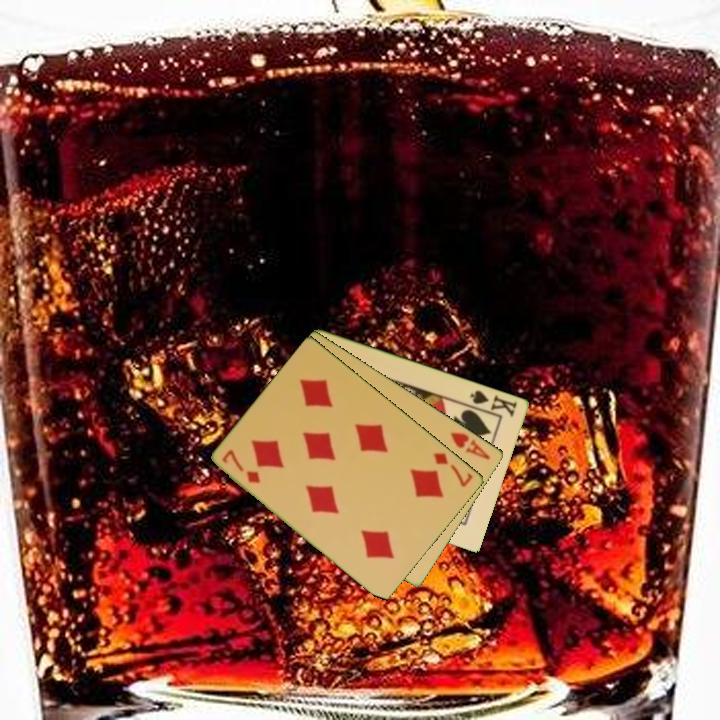7d: (430, 449, 476, 490), (218, 446, 263, 486)
Ah: (447, 428, 493, 463)
Ks: (464, 386, 520, 420)
